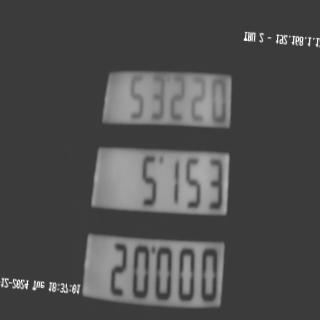screen: (77, 25, 252, 320)
